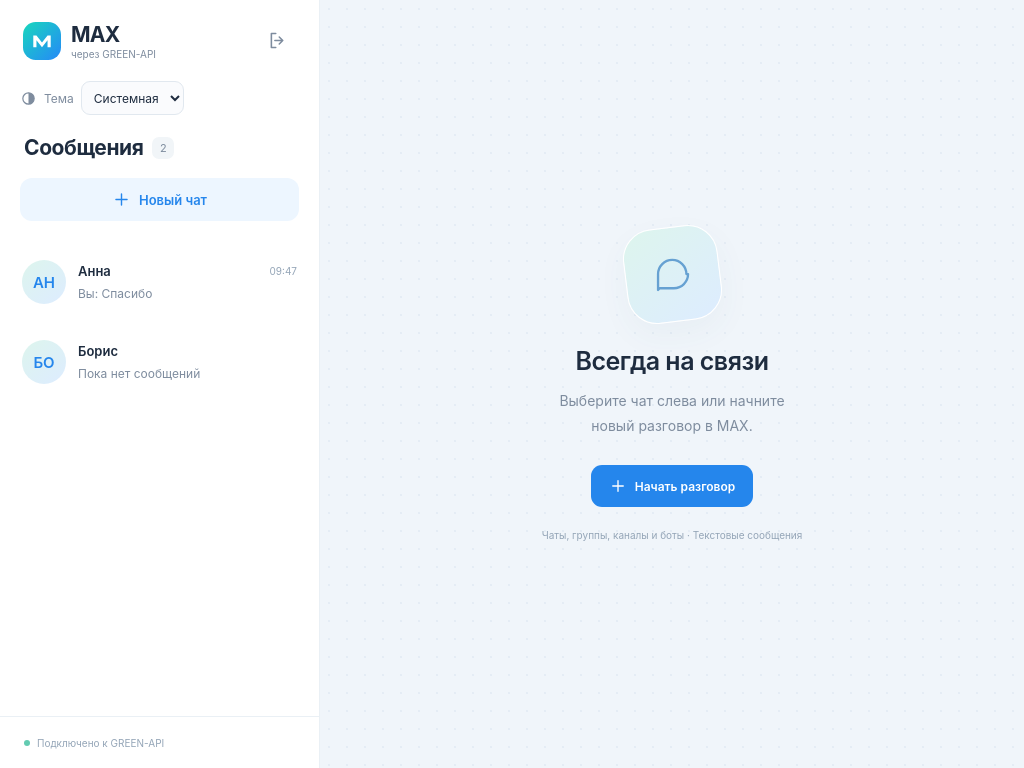
history and connection state › shows incoming text, outgoing read status and multiline content
The width and height of the screenshot is (1024, 768).
Click the button "АН Анна 09:47 Вы: Спасибо".
click(44, 282)  # box [10,242,309,322]
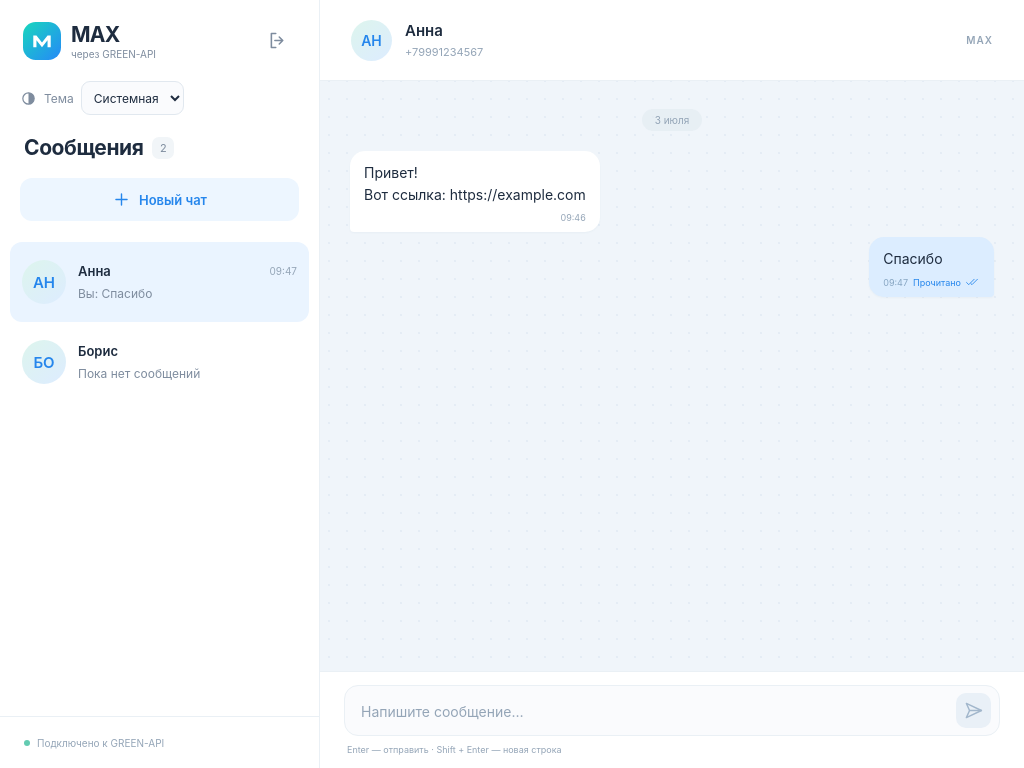
Now the element showing "Привет! Вот ссылка: https://example.com 09:46" is shown, box [350,151,600,232]
Now the element labelled "Прочитано" is shown, box [913,276,980,289]
Now the element showing "Спасибо 09:47 Прочитано" is shown, box [869,237,994,297]
